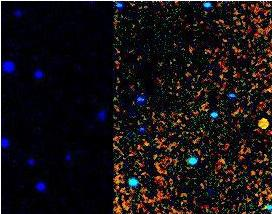star: (243, 106, 272, 136)
